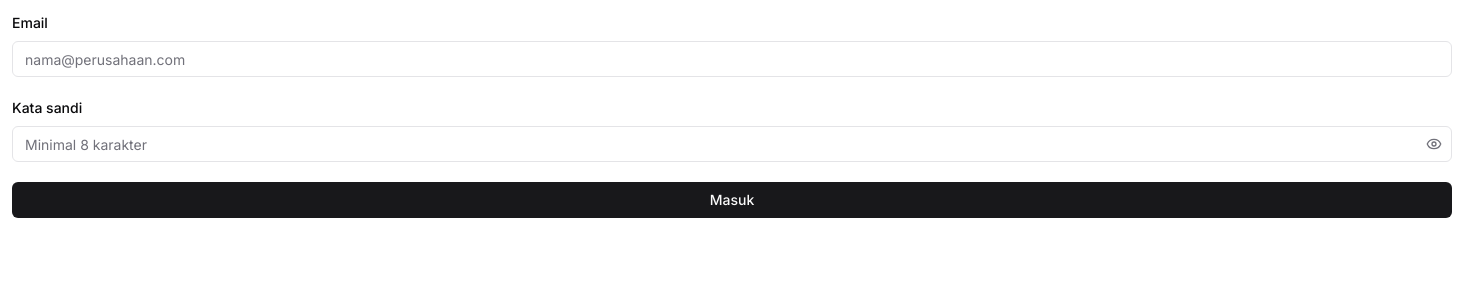
Test: LoginForm › shows the throttle window and locks the submit button on 429
Type "admin@example.com" into the field labelled "Email" at point(732, 59), box [12,41,1452,77]
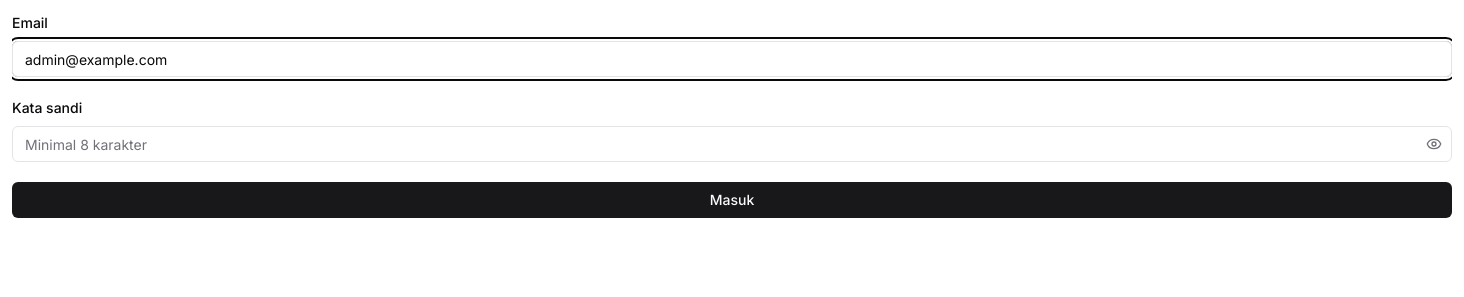
Type "Throttled#1" into the password field labelled "Kata sandi" at point(732, 144), box [12,126,1452,162]
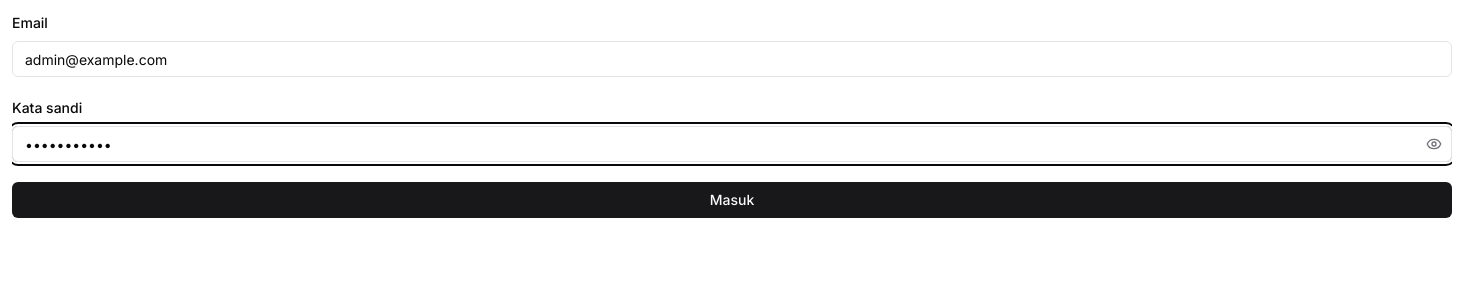
Click the button "Masuk" at point(732, 200), box [12,182,1452,218]
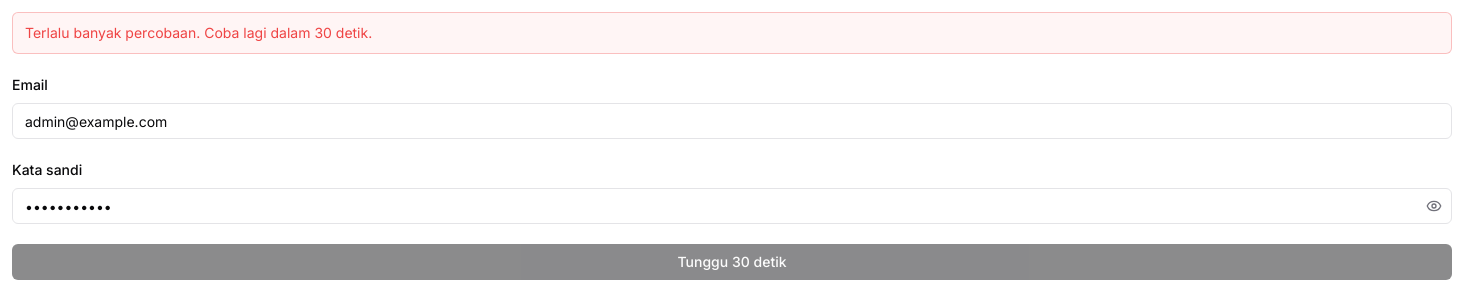
Result: the message reads "Terlalu banyak percobaan. Coba lagi dalam 30 detik." at [25,24,372,41]
Result: the button "Tunggu 30 detik" is disabled at [12,244,1452,280]
